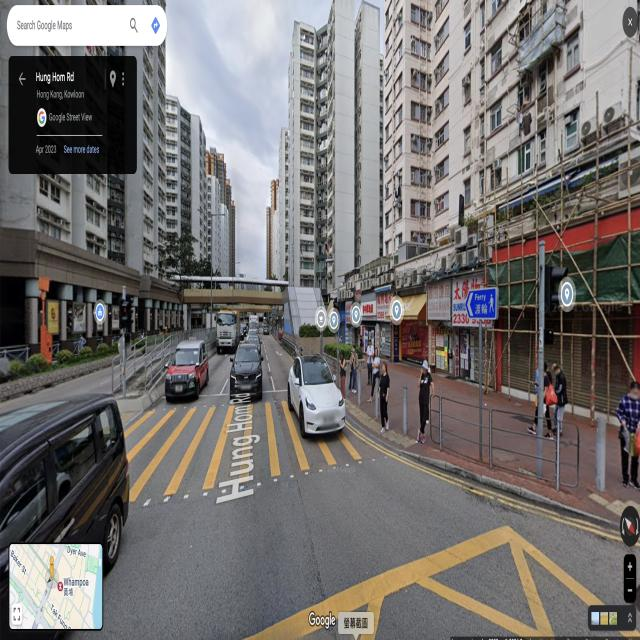Direction-Sign: (464, 287, 496, 319)
